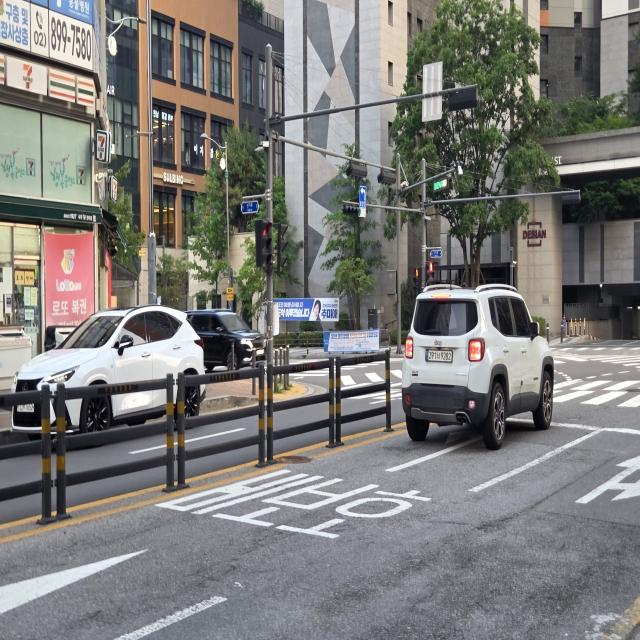car: (2, 293, 216, 469), (392, 262, 566, 469), (182, 301, 274, 380)
